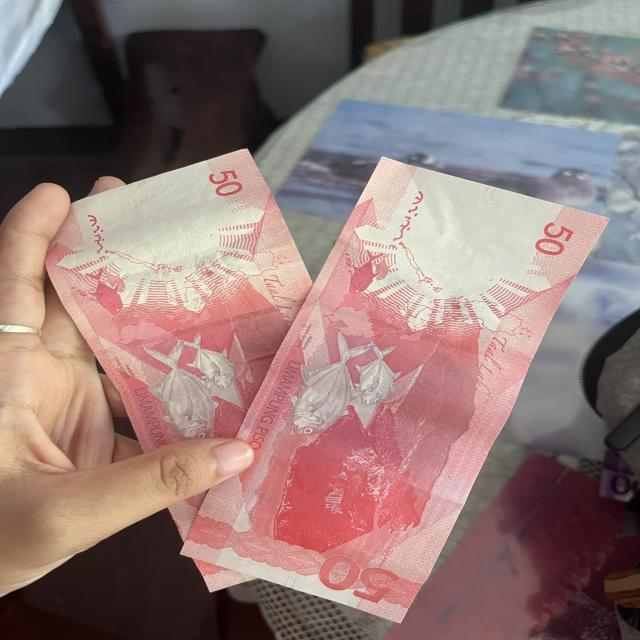50_maliputo: (134, 332, 244, 451), (284, 331, 402, 436)
50_maliputo_watermark: (69, 261, 132, 319), (336, 245, 395, 299)
value_watermark: (444, 193, 481, 218), (120, 189, 152, 213)
watermark: (397, 194, 550, 288)
